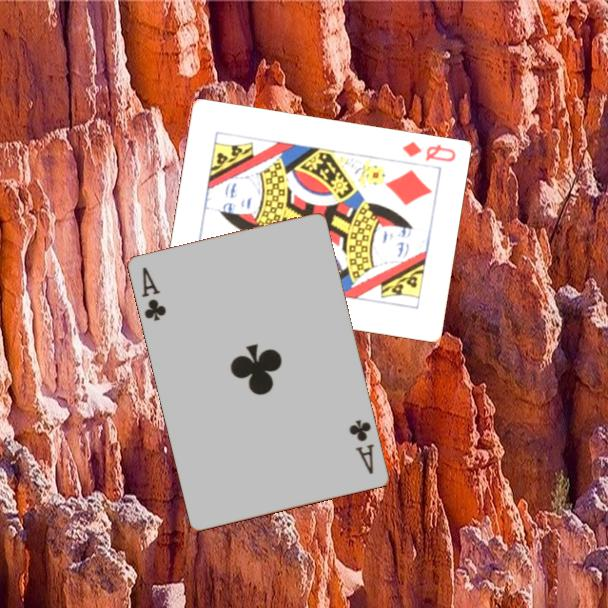c01: (346, 416, 378, 477), (139, 264, 169, 324)
d12: (398, 138, 458, 165)
